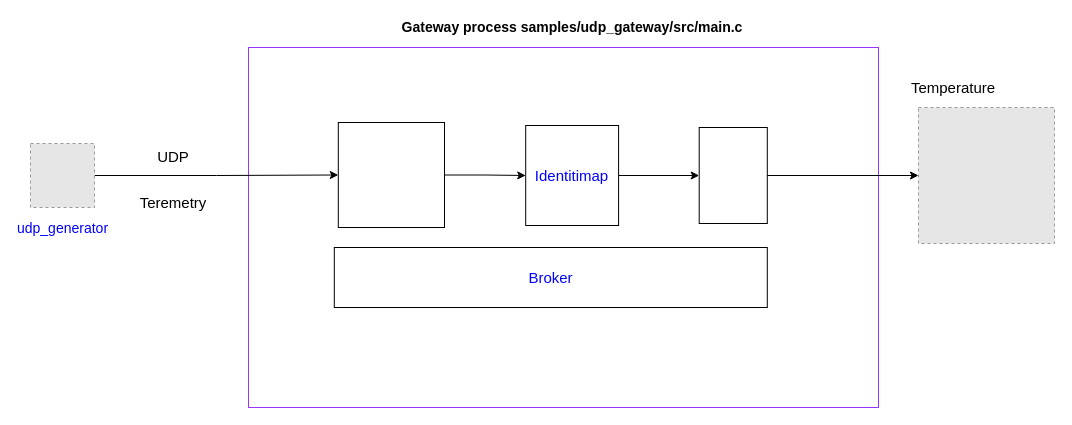
This 1072x425 diagram has some shape labels left out. Grey dashed boxes stand in for pictures. Here are the shapes that lost their labels. From the top down, the centre of each, then its label:
At point 390,175: "udp_gateway".
At point 732,175: "IoT Hub".
